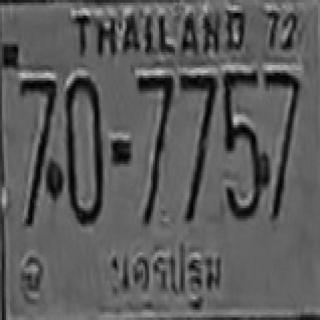N00: (64, 74, 103, 225)
N05: (222, 68, 261, 221)
N07: (264, 68, 303, 222), (135, 73, 173, 225), (179, 73, 217, 222), (19, 75, 57, 223)
P28: (102, 239, 228, 305)
